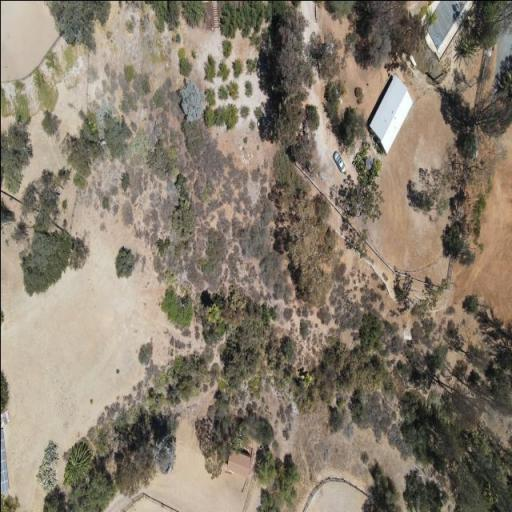solar-panel: (0, 428, 8, 494)
